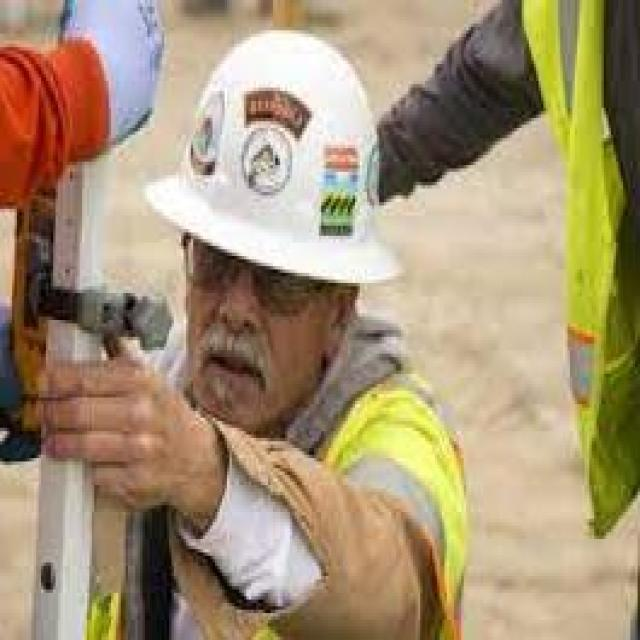Reflective-Jacket: (0, 360, 495, 630), (492, 0, 638, 556)
Safety-Helmet: (138, 24, 420, 303)
